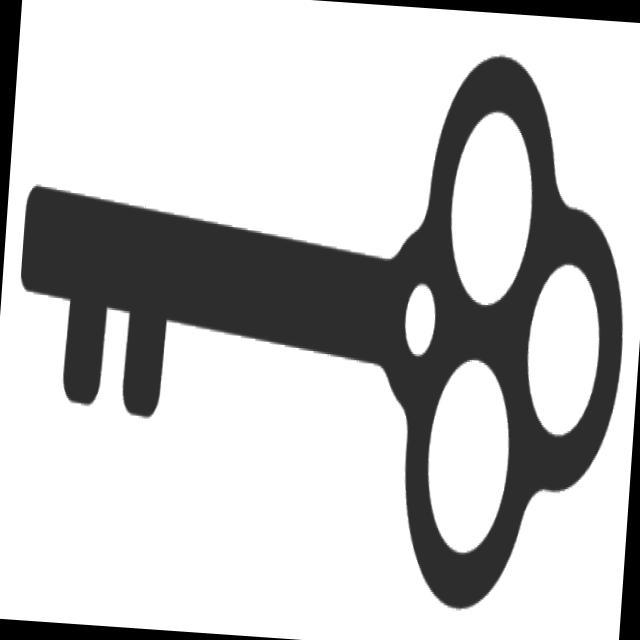key: (1, 9, 640, 637)
